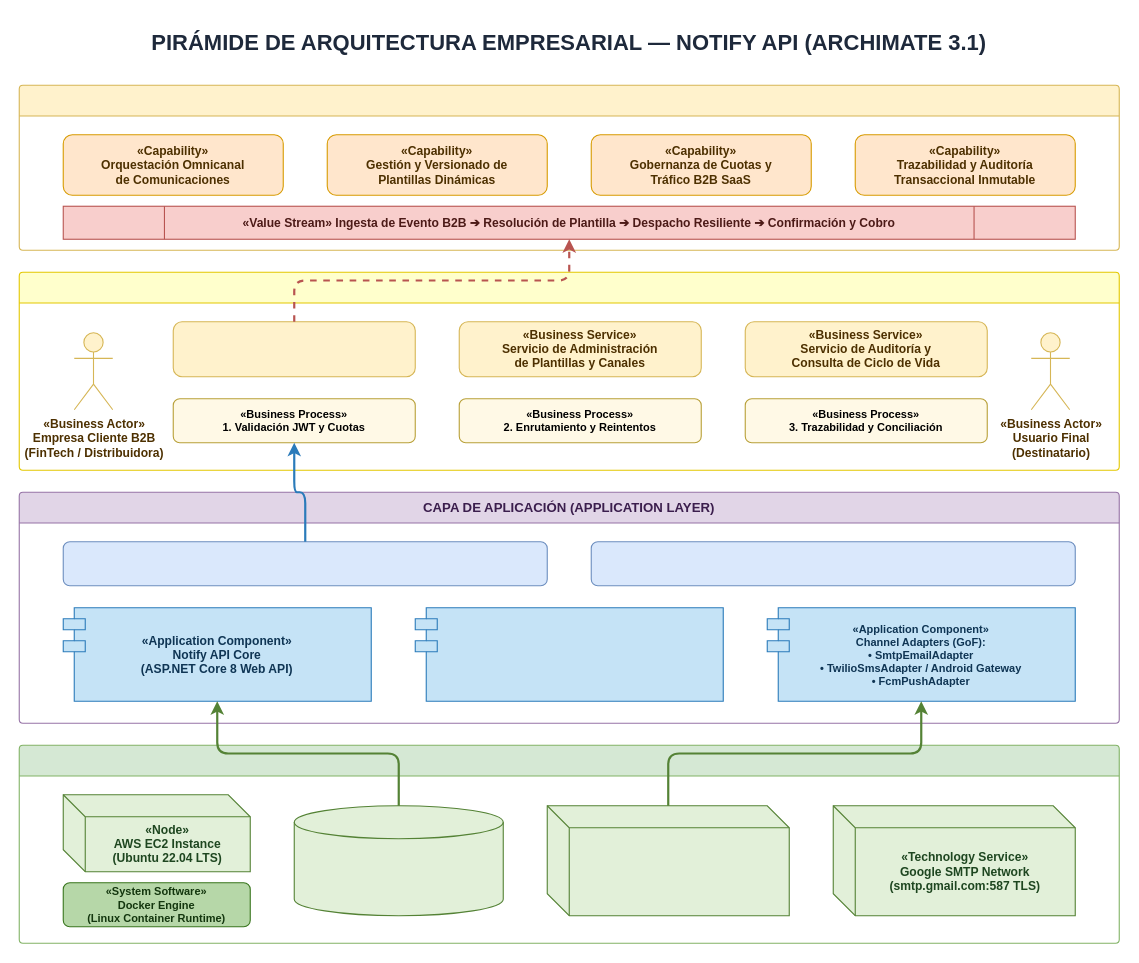
This 1139x963 diagram has some shape labels left out. The shapes that lost their labels are listed below. From the top down, each one's box as (x1, y1, x2, y2) in pixels, then its label:
(18, 84, 1119, 250): CAPA DE ESTRATEGIA (STRATEGY & MOTIVATION LAYER)
(172, 321, 415, 377): «Business Service» Servicio de Mensajería Transaccional B2B
(18, 271, 1119, 470): CAPA DE NEGOCIO (BUSINESS LAYER)
(62, 541, 547, 586): «Application Service» API REST / HTTP JSON (OpenAPI 3.0)
(590, 541, 1075, 586): «Application Service» Asynchronous Queue & Retry Engine
(414, 607, 723, 701): «Application Component» Notification Worker (Background Queue Consumer)
(293, 805, 503, 916): «Node» MongoDB Atlas Cluster (M0 Free / Replica Set)
(18, 744, 1119, 943): CAPA DE TECNOLOGÍA E INFRAESTRUCTURA (TECHNOLOGY LAYER)
(546, 805, 789, 916): «Device» Android SMS Gateway (App httpSMS + SIM GSM)
